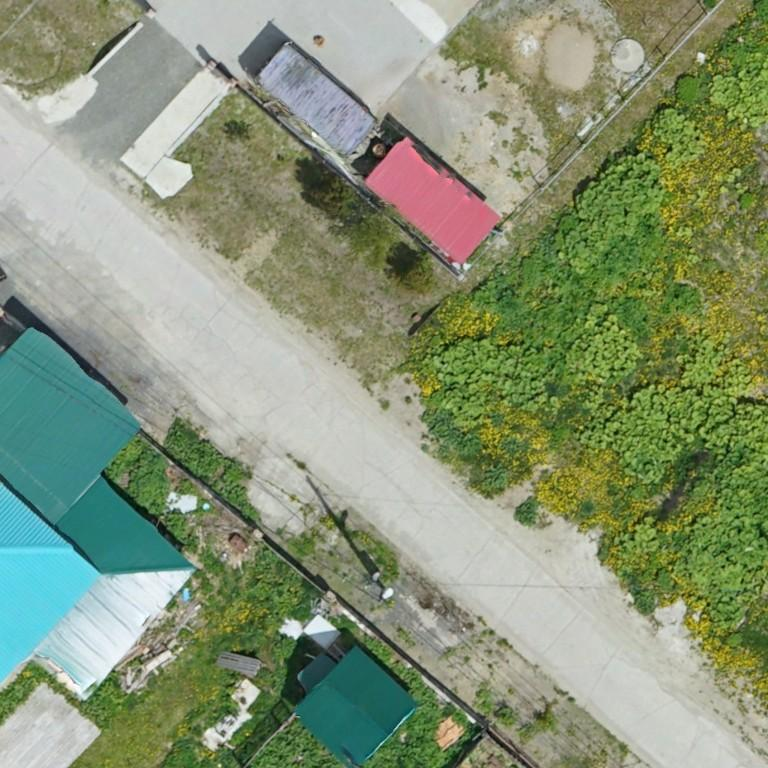hogweed: (365, 663, 464, 767), (488, 272, 597, 355), (248, 720, 346, 767), (166, 429, 240, 484), (595, 219, 657, 280), (128, 446, 169, 516), (614, 298, 650, 336), (665, 287, 699, 313), (166, 511, 184, 539), (228, 487, 247, 504)
